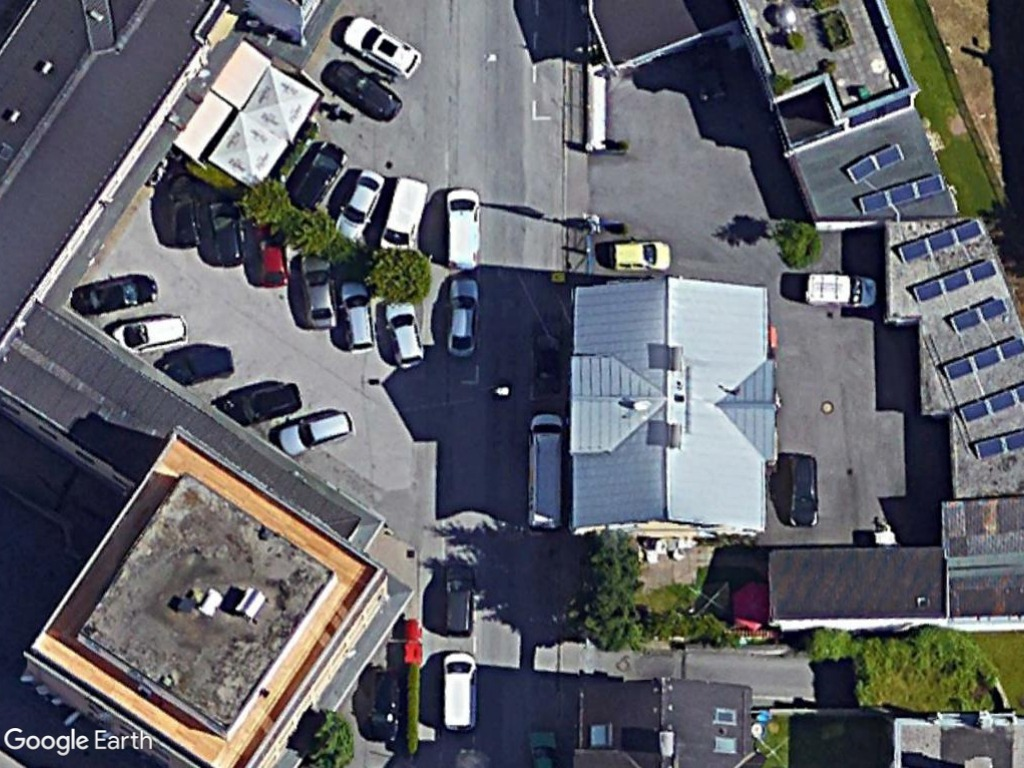car: (336, 10, 424, 79), (327, 160, 389, 244), (269, 404, 361, 459), (108, 311, 192, 359), (380, 294, 429, 376), (335, 275, 382, 360), (292, 250, 340, 333), (441, 269, 485, 356), (603, 236, 675, 276)
van: (520, 405, 568, 536), (374, 170, 438, 260), (439, 181, 488, 276), (438, 646, 484, 736)
